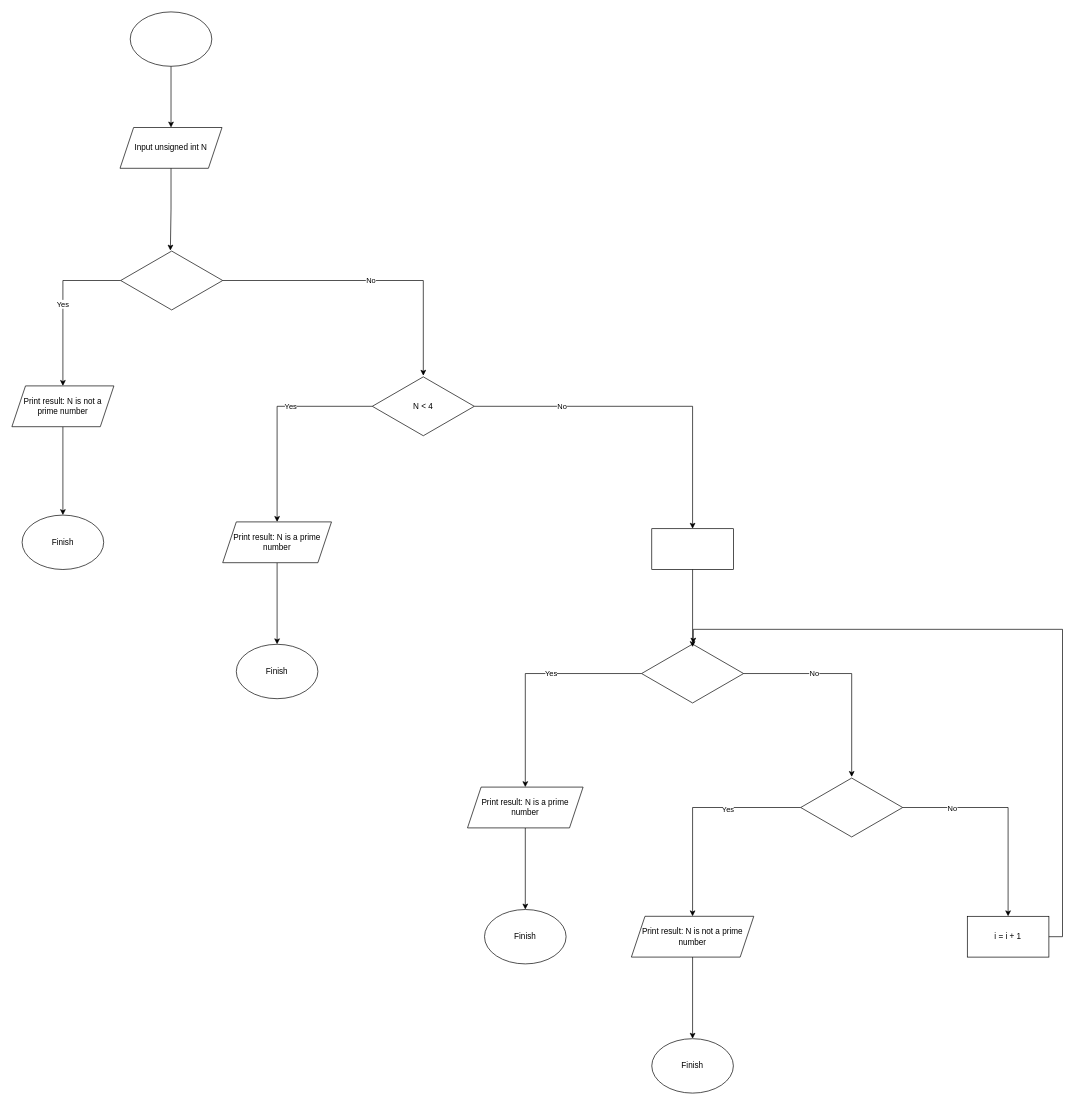
Some shapes in this 1080 by 1105 pixel diagram are drawn without their labels. Here are the shapes that lost their labels. From the top down, the box of each, then its label:
(130, 11, 212, 66): Start
(120, 249, 223, 311): N == 1
(651, 528, 733, 570): i = 2
(641, 642, 744, 704): i > sqrt(N)
(800, 776, 903, 838): N%i == 0
